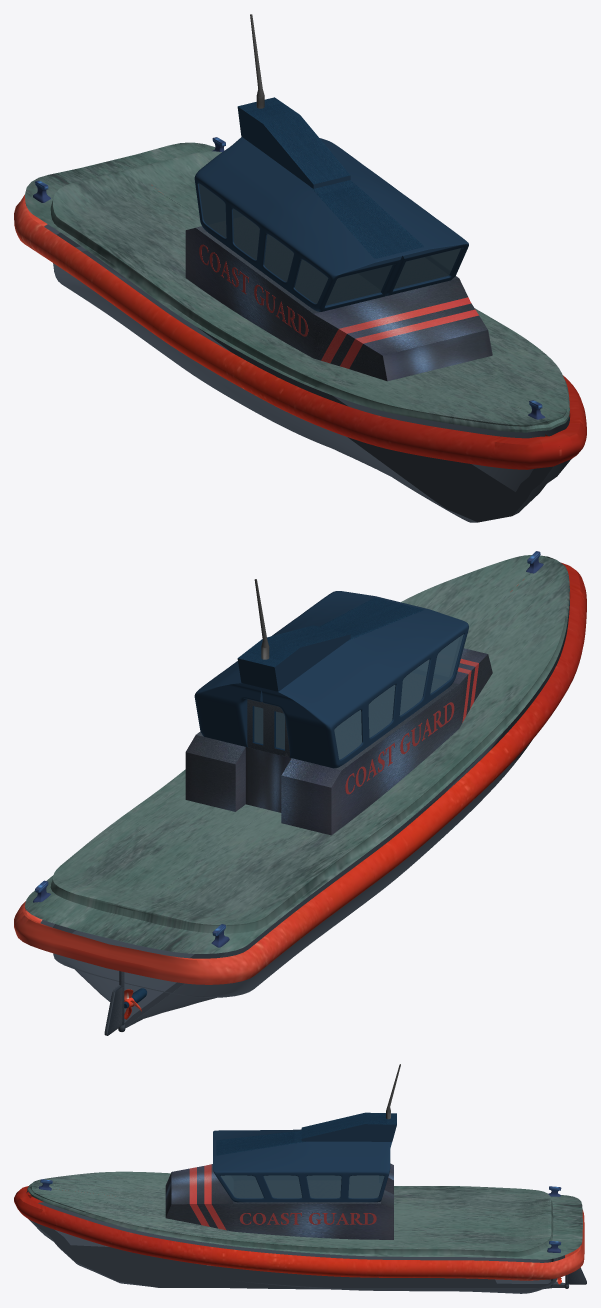
Rendered from coast_guard_05_agt14032013.glb.
The picture shows the model from 3 angles, top to bottom: view 1: azimuth 30°, elevation 25°; view 2: azimuth 150°, elevation 25°; view 3: azimuth 270°, elevation 25°; orthographic projection. The views are drawn at different scales.
Visible parts, largest first — view 1: Object_5, Object_7, Object_15, Object_2, Object_8, Object_3, Object_14; view 2: Object_5, Object_7, Object_15, Object_2, Object_8, Object_3, Object_14; view 3: Object_5, Object_8, Object_15, Object_7, Object_2, Object_3, Object_14, Object_12.
Part boxes in pixels (x1=…): Object_5: x1=25, y1=142, x2=569, y2=432; Object_7: x1=194, y1=97, x2=468, y2=311; Object_15: x1=14, y1=185, x2=586, y2=469; Object_2: x1=185, y1=226, x2=492, y2=381; Object_8: x1=25, y1=203, x2=571, y2=522; Object_3: x1=198, y1=183, x2=460, y2=305; Object_14: x1=220, y1=261, x2=478, y2=368; Object_5: x1=25, y1=555, x2=569, y2=953; Object_7: x1=194, y1=591, x2=468, y2=768; Object_15: x1=14, y1=562, x2=586, y2=1019; Object_2: x1=185, y1=648, x2=492, y2=835; Object_8: x1=25, y1=586, x2=569, y2=1035; Object_3: x1=254, y1=634, x2=463, y2=759; Object_14: x1=366, y1=658, x2=478, y2=781; Object_5: x1=27, y1=1171, x2=582, y2=1259; Object_8: x1=26, y1=1191, x2=586, y2=1293; Object_15: x1=14, y1=1186, x2=584, y2=1284; Object_7: x1=213, y1=1112, x2=396, y2=1202; Object_2: x1=165, y1=1163, x2=393, y2=1239; Object_3: x1=221, y1=1175, x2=384, y2=1198; Object_14: x1=189, y1=1164, x2=226, y2=1230; Object_12: x1=253, y1=1213, x2=363, y2=1224.
Bounding box in the file's own units: 4.33 × 6.21 × 14.43.
9 materials, 9 textured.
